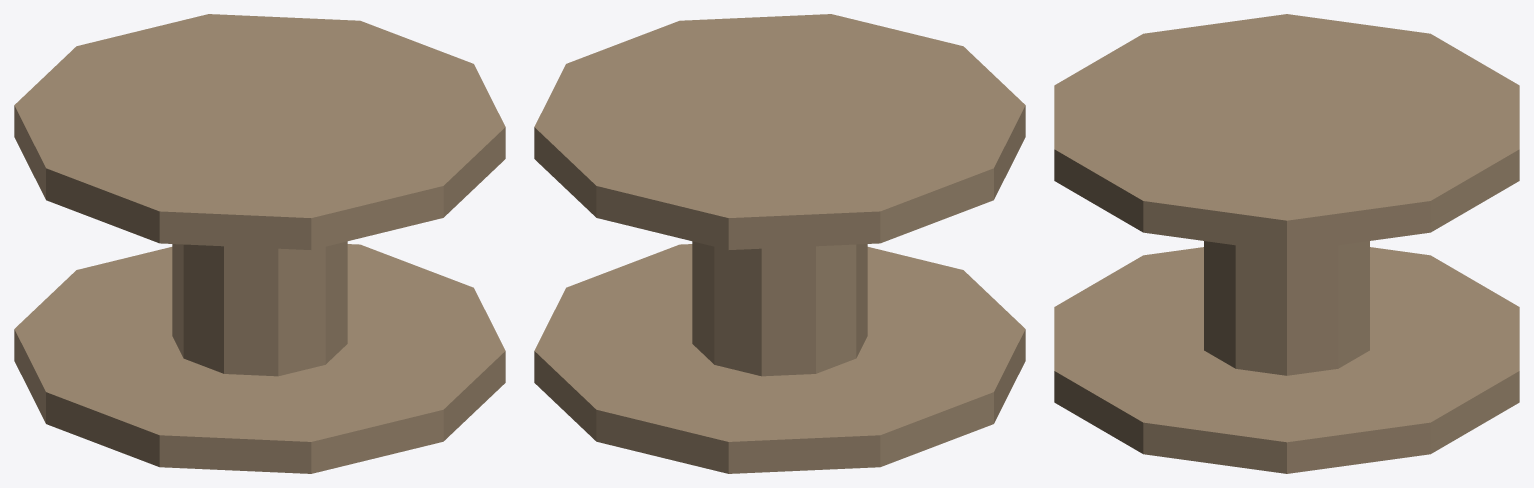
Rendered from zombie-quarantine-streets-empty-cable-reel-aabe27c2__19357.glb.
3 views of the same model, side by side, from view 1: azimuth 30°, elevation 25°; view 2: azimuth 150°, elevation 25°; view 3: azimuth 270°, elevation 25° (orthographic).
Parts seen in each view (by area): view 1: empty-cable-reel; view 2: empty-cable-reel; view 3: empty-cable-reel.
Boxes of the visible parts, x1,y1,x2,y2 form: empty-cable-reel: [14, 14, 505, 473]; empty-cable-reel: [534, 14, 1025, 473]; empty-cable-reel: [1054, 14, 1519, 473].
Bounding box in the file's own units: 1.4 × 0.8001 × 1.33.
